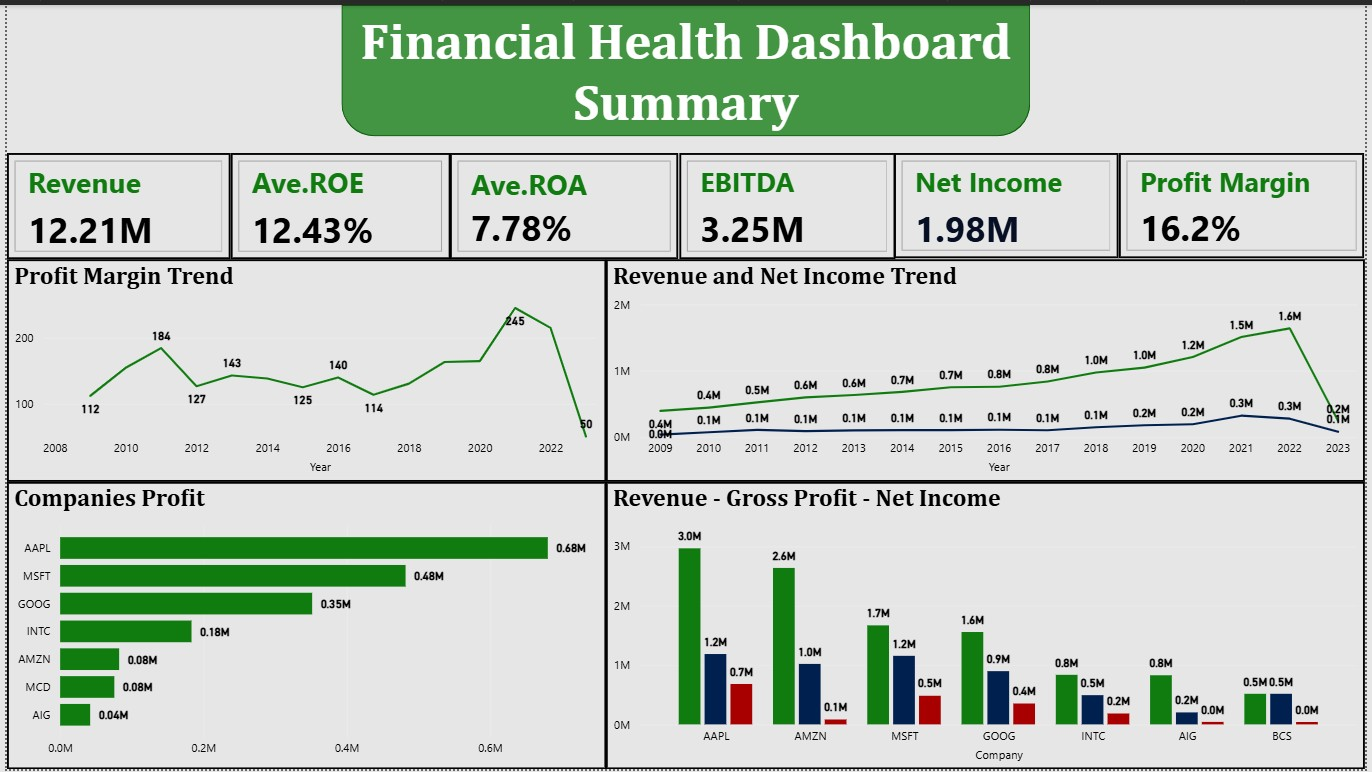

This screenshot's page, from the dashboard's own definition file:
{"tool":"powerbi","page":{"name":"Page 1","canvas":[1280,720],"ordinal":0},"visuals":[{"type":"cardVisual","fields":{"Data":["Table.Total Revenue"]},"box":[0,139.6,210.6,100.4],"z":0},{"type":"cardVisual","fields":{"Data":["Table.Total Ptofit"]},"box":[836.2,139.6,211.8,99.2],"z":1000},{"type":"cardVisual","fields":{"Data":["Table.Profit Margin"]},"box":[1048,139.6,231.4,99.2],"z":2000},{"type":"cardVisual","fields":{"Data":["Table.roe"]},"box":[210.6,139.6,206.9,100.4],"z":3000},{"type":"cardVisual","fields":{"Data":["Table.roa"]},"box":[417.5,139.6,215.5,100.4],"z":4000},{"type":"lineChart","title":"Profit Margin Trend","fields":{"Category":["Financial Statements.Year"],"Y":["Sum(Financial Statements.Net Profit Margin)"]},"box":[0,240,564.4,209.4],"z":5000},{"type":"lineChart","title":"Revenue and Net Income Trend","fields":{"Category":["Financial Statements.Year"],"Y":["Sum(Financial Statements.Revenue)","Sum(Financial Statements.Net Income)"]},"box":[564.4,240,715,209.4],"z":6000},{"type":"barChart","title":"Companies Profit","fields":{"Category":["Financial Statements.Company "],"Y":["Sum(Financial Statements.Net Income)"]},"box":[0,449.3,564.4,270.6],"z":7000},{"type":"clusteredColumnChart","title":"Revenue - Gross Profit - Net Income","fields":{"Category":["Financial Statements.Company "],"Y":["Sum(Financial Statements.Revenue)","Sum(Financial Statements.Gross Profit)","Sum(Financial Statements.Net Income)"]},"box":[564.4,449.3,715,270.6],"z":8000},{"type":"group","id":"g1","title":"header","box":[315.6,0,648.9,123.7],"z":9000},{"type":"shape","box":[315.6,0,648.9,123.7],"z":10000,"group":"g1"},{"type":"cardVisual","fields":{"Data":["Sum(Financial Statements.EBITDA)"]},"box":[633,139.6,203.2,100.4],"z":10000},{"type":"textbox","box":[315.6,0,648.9,123.7],"z":11000,"group":"g1"}]}

Visuals, with their boxes in screenshot pixels (x1, y1, x2, y2), scaled from the page's 1280x720 canvas onto the 1372x772 screenshot:
cardVisual - Table.Total Revenue: 0 150 226 257
cardVisual - Table.Total Ptofit: 896 150 1123 256
cardVisual - Table.Profit Margin: 1123 150 1371 256
cardVisual - Table.roe: 226 150 448 257
cardVisual - Table.roa: 448 150 678 257
"Profit Margin Trend" lineChart: 0 257 605 482
"Revenue and Net Income Trend" lineChart: 605 257 1371 482
"Companies Profit" barChart: 0 482 605 771
"Revenue - Gross Profit - Net Income" clusteredColumnChart: 605 482 1371 771
"header" group: 338 0 1034 133
shape: 338 0 1034 133
cardVisual - Sum(Financial Statements.EBITDA): 678 150 896 257
textbox: 338 0 1034 133
